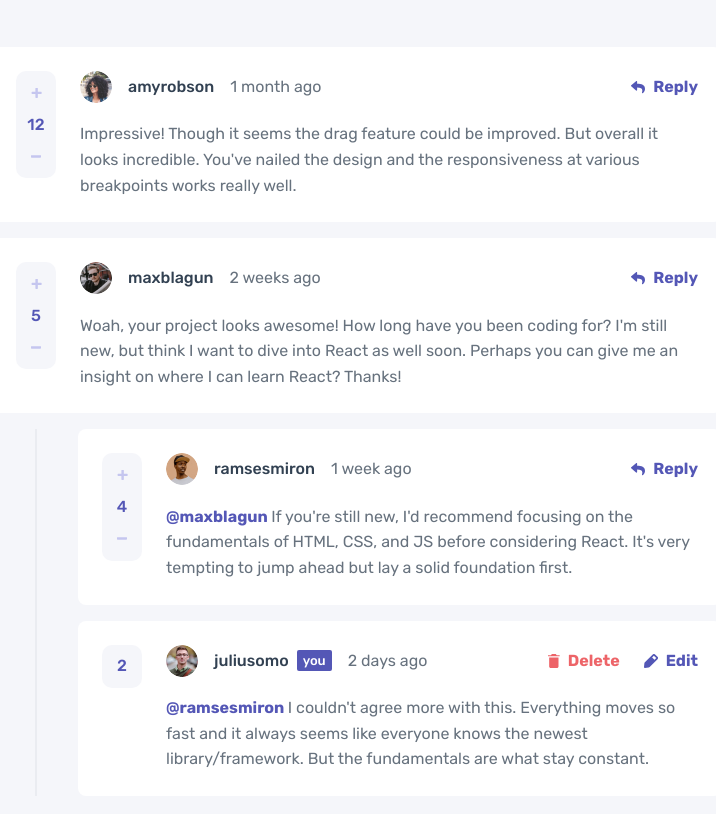
Scenario: App › allows current user to reply to someone else’s comment, adds the new reply to the correct comment thread, and resets the input
Click the button "Reply" in the row of "2 weeks ago".
click(665, 278)  # box [631,262,698,294]
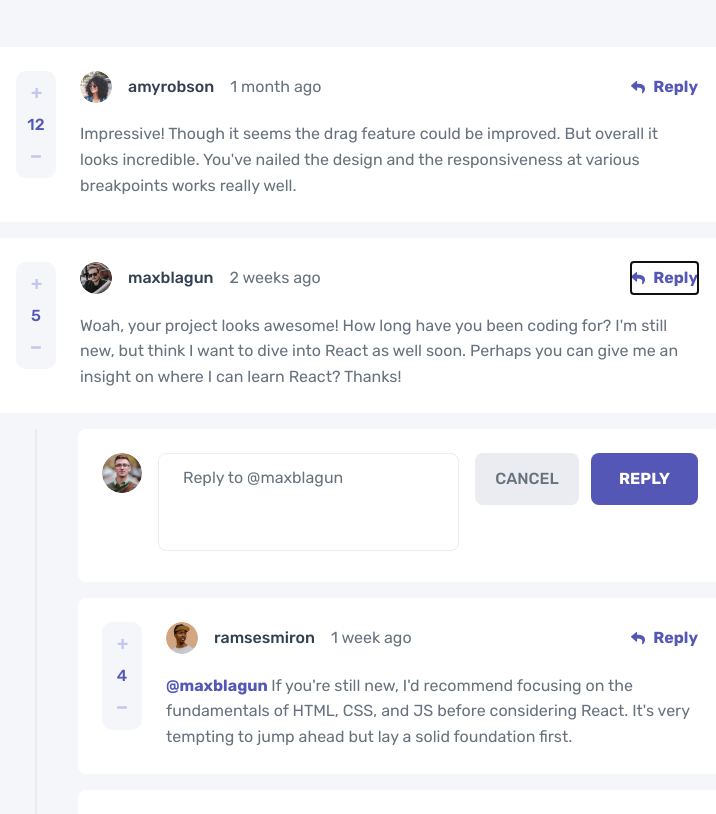
Check: the text box labelled "Reply to @maxblagun" is shown
Type "This is a reply" into the text box labelled "Reply to @maxblagun".
click(308, 502); type("This is a reply")  # box [158,453,459,551]
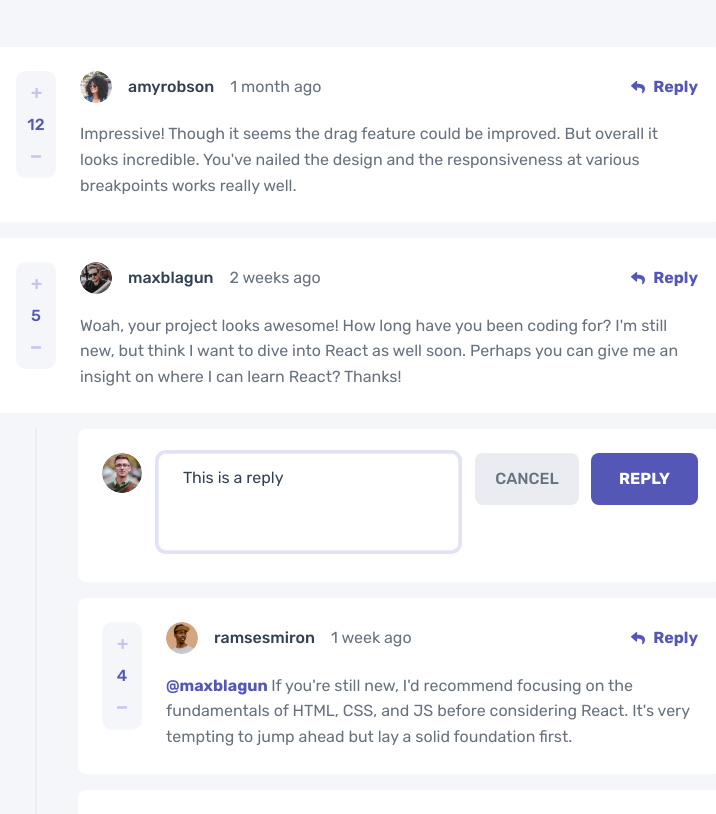
Click the 3rd button "Reply".
click(644, 479)  # box [591,453,698,505]
(page scrolled)
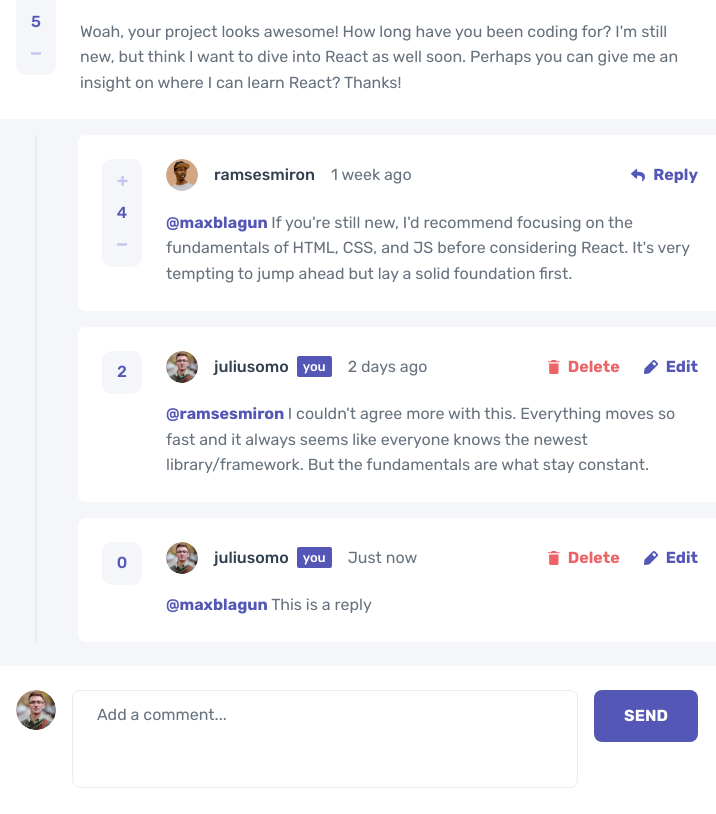
Check: the text "This is a reply" is shown, box [271,595,372,614]
Check: the button "Edit" in the row of "Just now" is shown, box [644,542,698,574]
Check: the button "Delete" next to "Just now" is shown, box [548,542,620,574]
